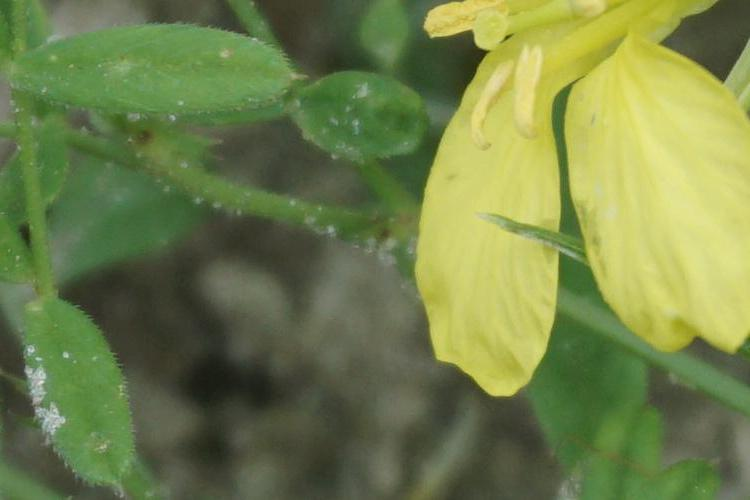yellow: (410, 4, 748, 389)
